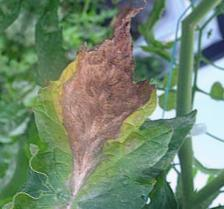Tomato mold leaf: (9, 0, 221, 209)
